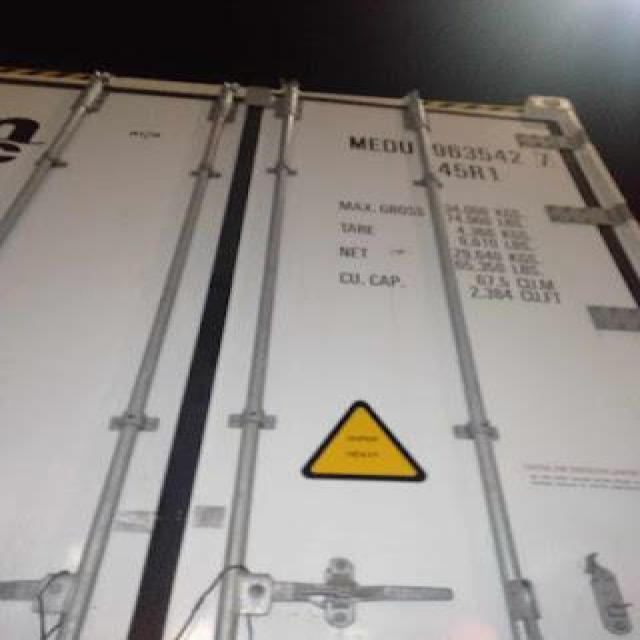ISO: (436, 161, 504, 183)
container_number: (348, 133, 550, 162)
